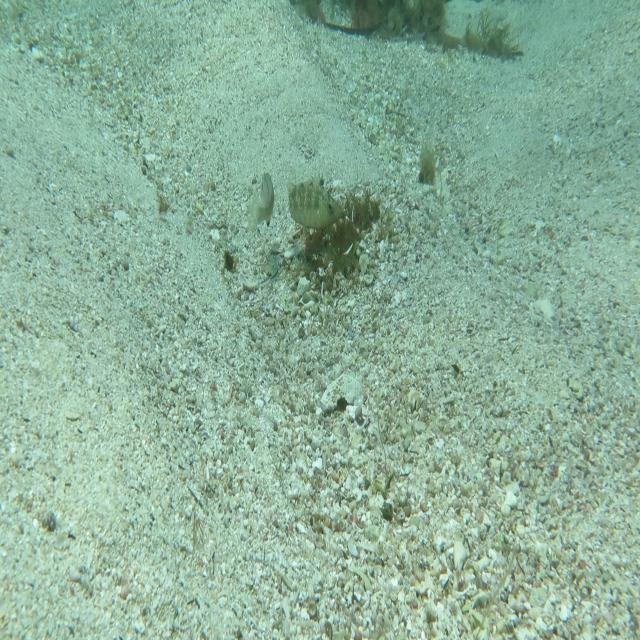ROLL: (280, 166, 346, 232)
female: (242, 168, 280, 231)
nest: (283, 168, 386, 304)
